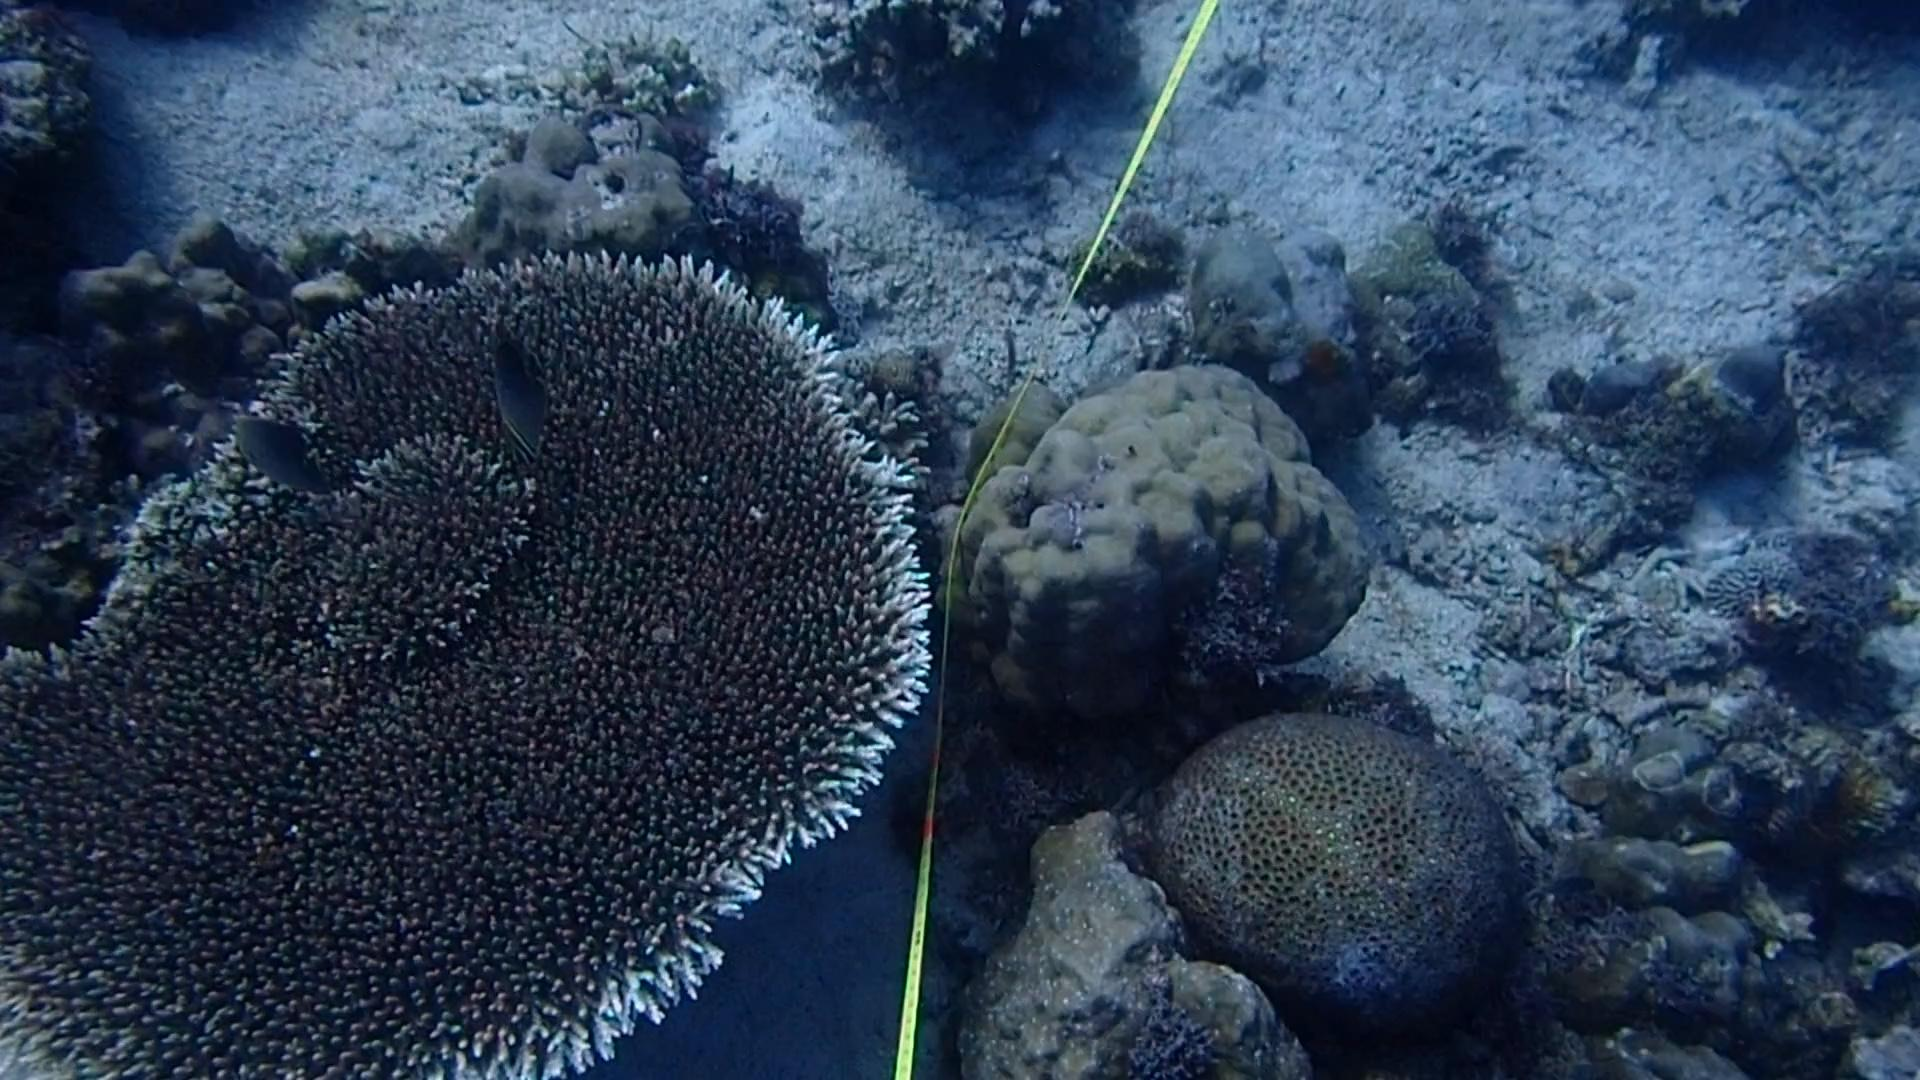Dark Blue Dory: (479, 319, 567, 464), (220, 404, 336, 510)
Light Fish: (1514, 862, 1601, 911)
